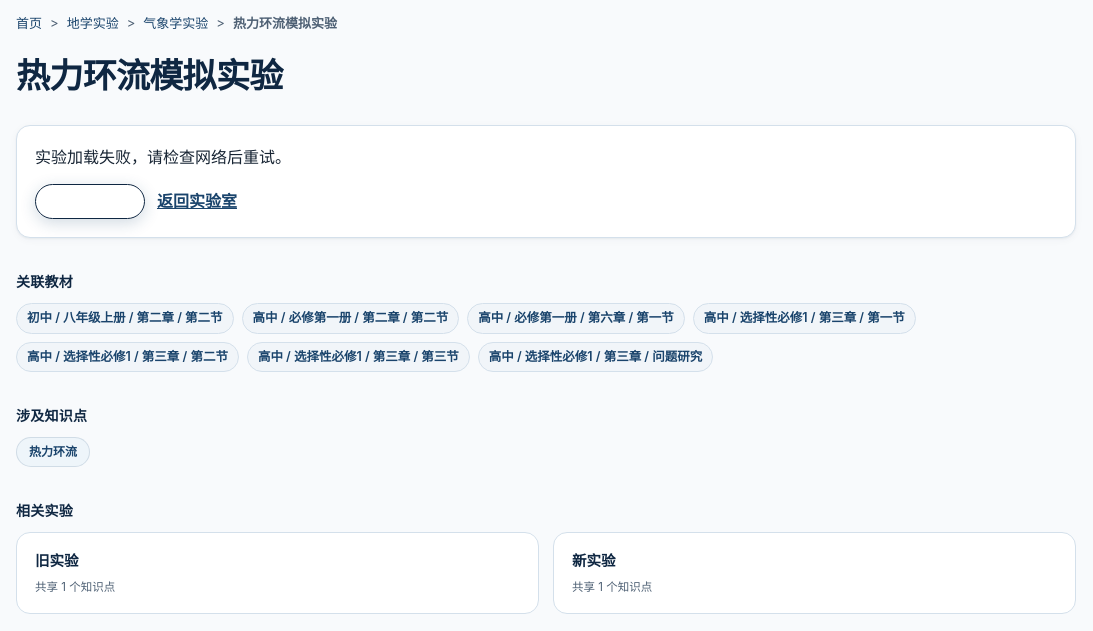
it: ExperimentView › retries a recoverable loader failure
The width and height of the screenshot is (1093, 631).
Expected: the message "实验加载失败，请检查网络后重试。 重新加载实验 返回实验室" is shown, [16,124,1076,238]
Click the button "重新加载实验": click(90, 201) [35,184,145,219]
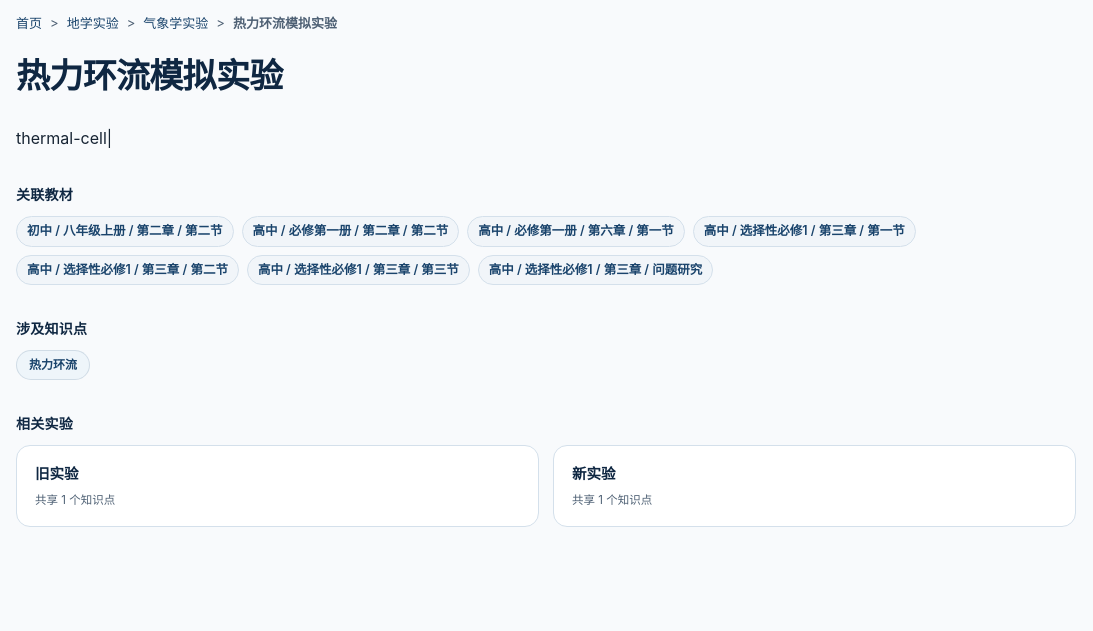
Now the text "thermal-cell|" is shown, box [16,128,112,148]
